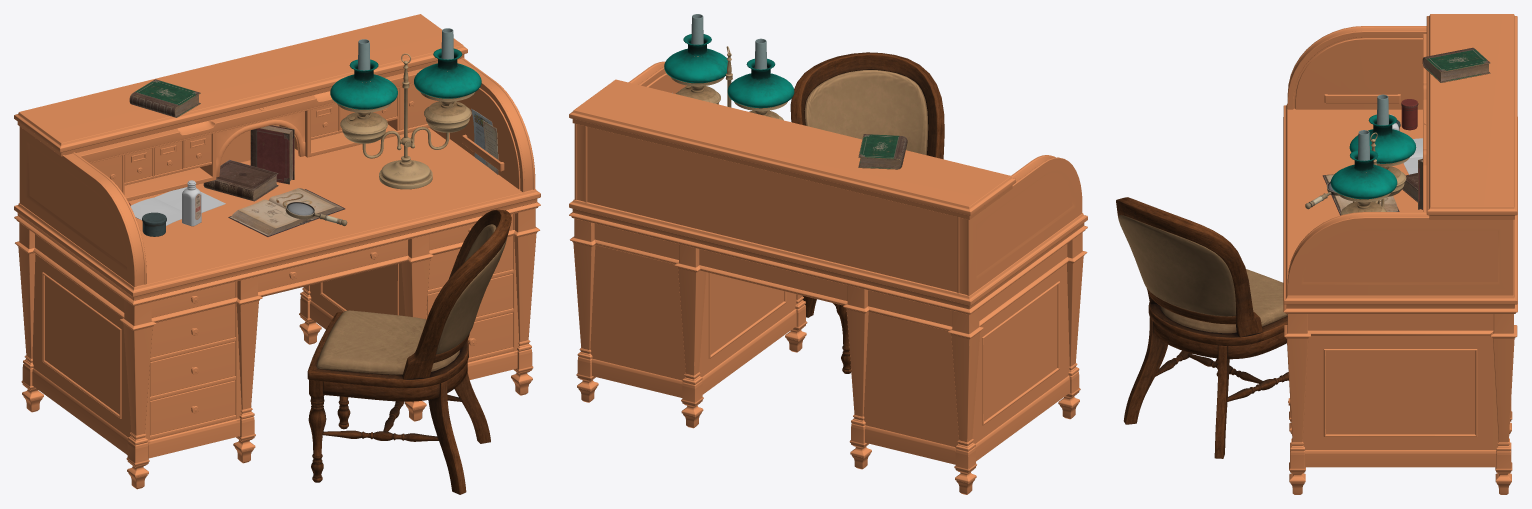
The model's file is AntiqueDesk-Starter.fbx.
3 views of the same model, side by side, from view 1: azimuth 30°, elevation 25°; view 2: azimuth 150°, elevation 25°; view 3: azimuth 270°, elevation 25° (orthographic).
Visible parts, largest first — view 1: Table, Chair, Lamp, Open_book, Book_3, Book_1, Book_2, Note_3, Bottle, Magnifier; view 2: Table, Chair, Lamp, Book_2; view 3: Table, Chair, Lamp, Book_2, Jar_1, Open_book.
Part boxes in pixels (left/top/right/bottom): Table: left=14, top=14, right=540, bottom=489; Chair: left=307, top=209, right=511, bottom=494; Lamp: left=330, top=28, right=481, bottom=189; Open_book: left=228, top=188, right=345, bottom=236; Book_3: left=250, top=125, right=294, bottom=184; Book_1: left=203, top=160, right=278, bottom=201; Book_2: left=129, top=79, right=200, bottom=117; Note_3: left=130, top=187, right=225, bottom=225; Bottle: left=182, top=180, right=201, bottom=226; Magnifier: left=285, top=202, right=347, bottom=226; Table: left=569, top=61, right=1087, bottom=494; Chair: left=790, top=52, right=944, bottom=373; Lamp: left=664, top=14, right=794, bottom=120; Book_2: left=858, top=134, right=907, bottom=169; Table: left=1283, top=14, right=1517, bottom=494; Chair: left=1116, top=197, right=1288, bottom=458; Lamp: left=1330, top=94, right=1416, bottom=215; Book_2: left=1422, top=47, right=1490, bottom=82; Jar_1: left=1401, top=99, right=1418, bottom=130; Open_book: left=1322, top=174, right=1399, bottom=215.
Size of the model in its own units: 1.62 by 1.32 by 1.41.
